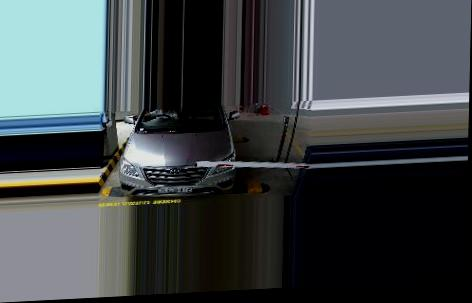License_Plate: (153, 183, 193, 198)
